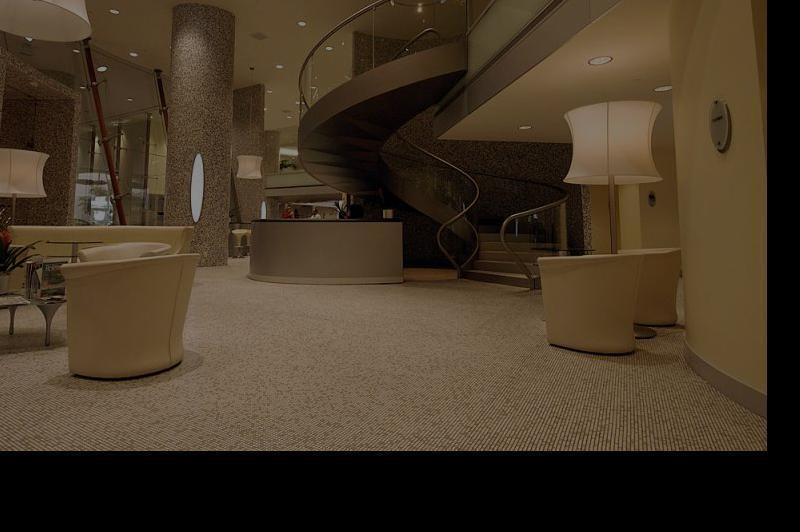Escaleras: (295, 0, 561, 283)
